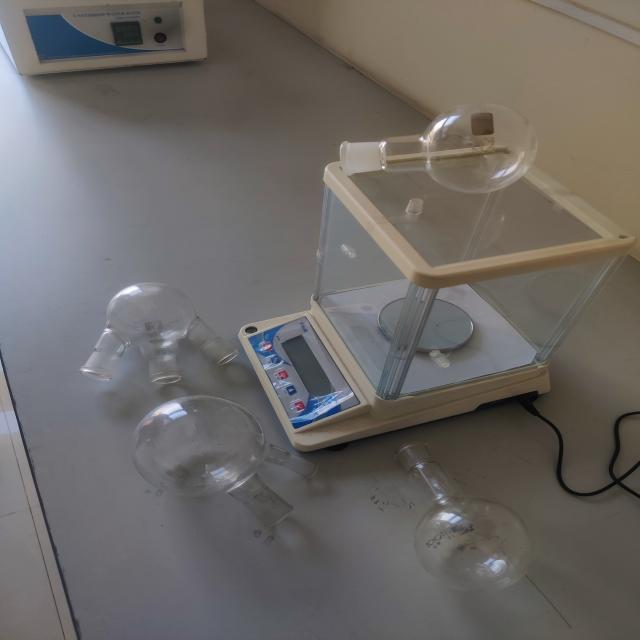Round_Bottom_Flask_Borosilicate_Glass_1_Neck: (388, 418, 550, 618), (320, 77, 555, 202)
Round_Bottom_Flask_Borosilicate_Glass_2_Neck: (112, 389, 358, 555)
Round_Bottom_Flask_Borosilicate_Glass_3_Neck: (69, 252, 263, 401)
